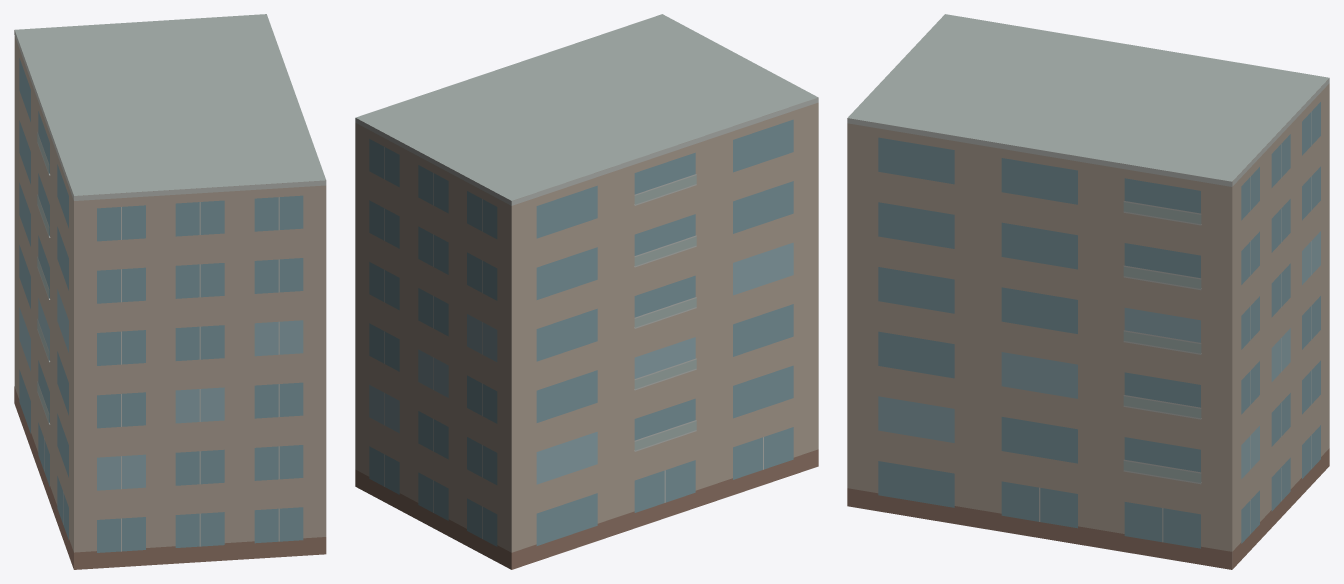
File: survey-upis-32839573.glb
3 renders of one model, left to right at view 1: azimuth 30°, elevation 25°; view 2: azimuth 150°, elevation 25°; view 3: azimuth 270°, elevation 25°, orthographic. The views are drawn at different scales.
Parts seen in each view (by area): view 1: survey-upis-32839573.tmp; view 2: survey-upis-32839573.tmp; view 3: survey-upis-32839573.tmp.
Boxes of the visible parts, x1,y1,x2,y2 form: survey-upis-32839573.tmp: (14, 14, 326, 569); survey-upis-32839573.tmp: (355, 14, 818, 569); survey-upis-32839573.tmp: (847, 14, 1329, 569).
Size of the model in its own units: 16.64 by 17.95 by 20.22.
